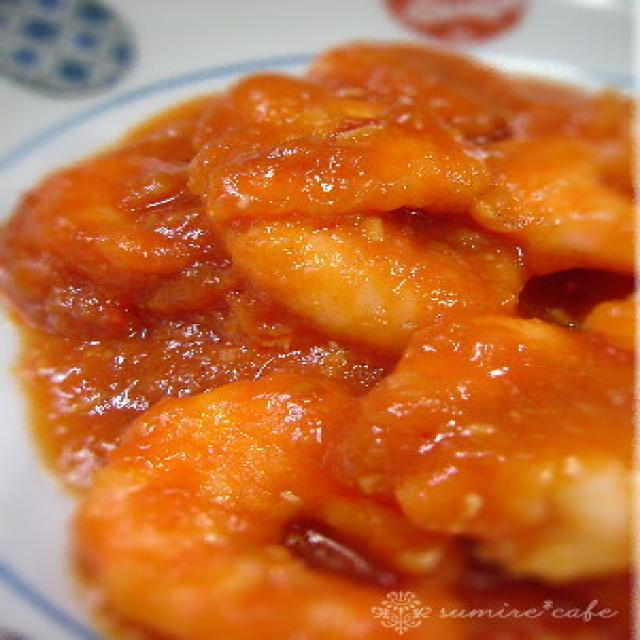熟制海鲜: (0, 30, 640, 581)
